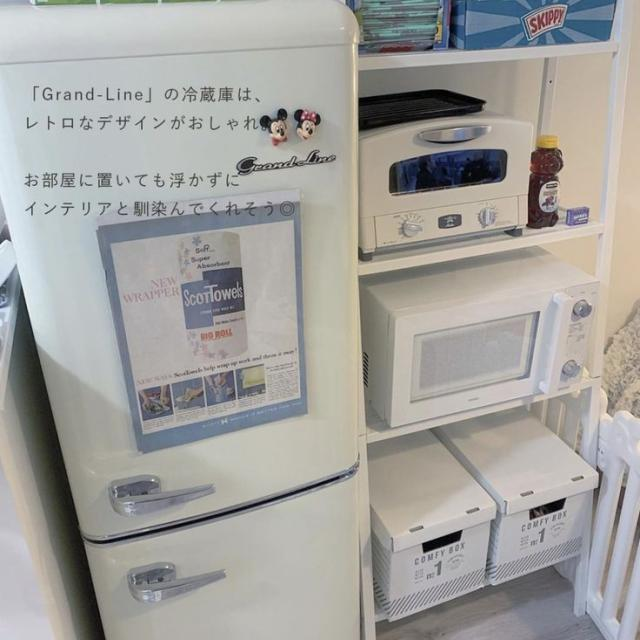obstacle: (0, 0, 370, 639)
